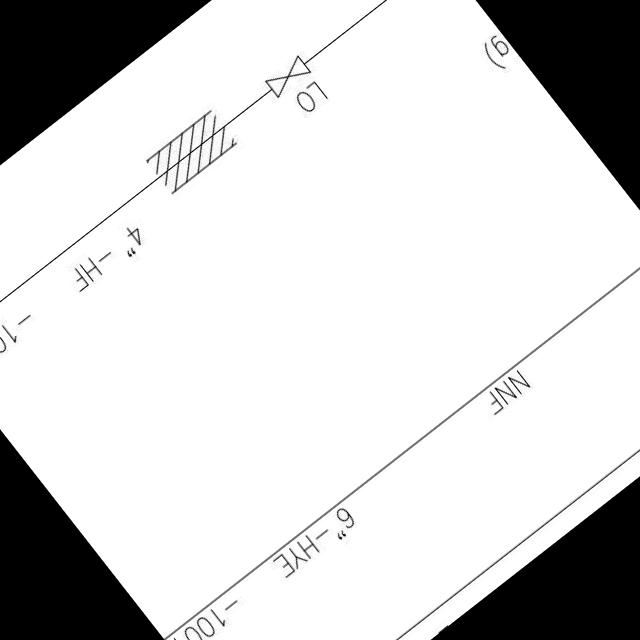GV: (259, 51, 315, 104)
